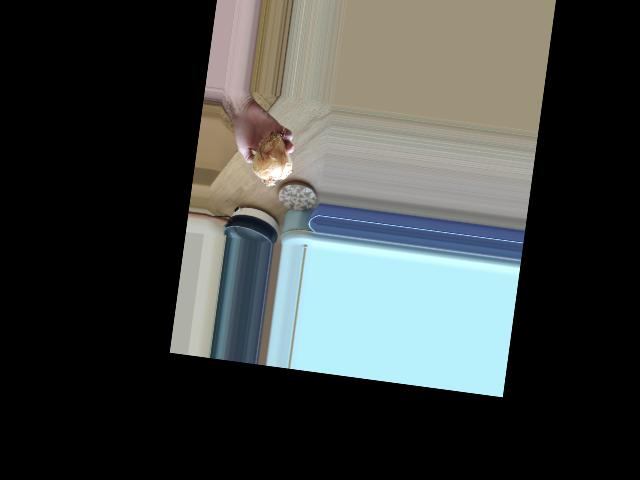onion: (249, 126, 298, 187)
